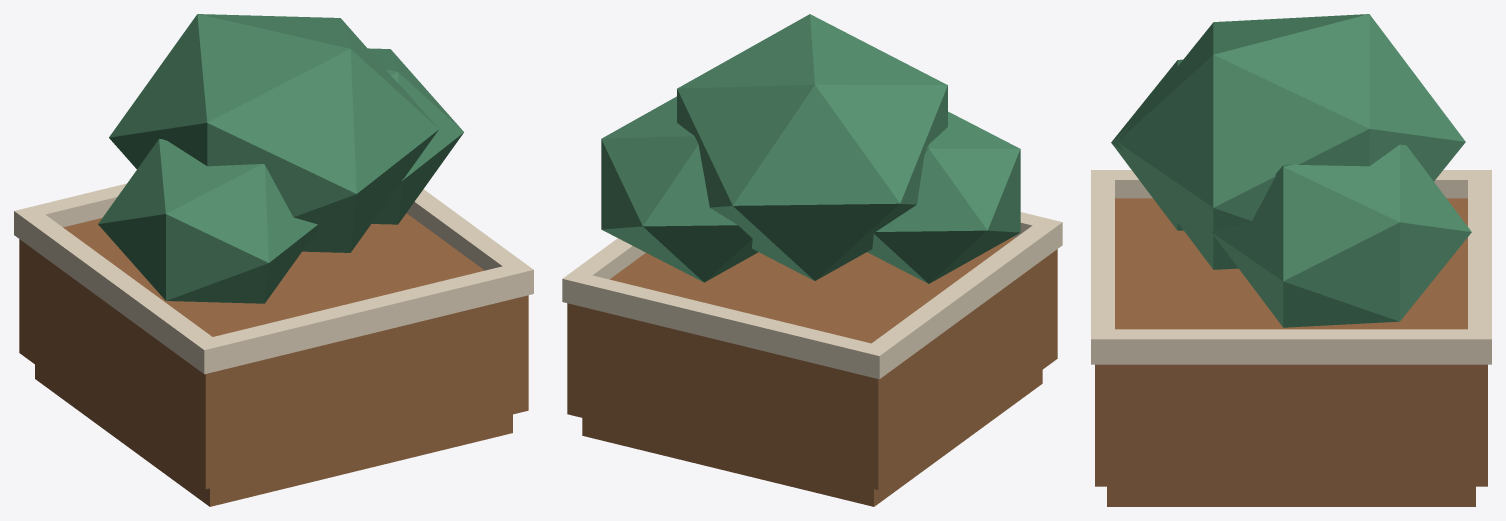
The model's file is LM_PROP_PlanterMamak.glb.
3 renders of one model, left to right at view 1: azimuth 30°, elevation 25°; view 2: azimuth 150°, elevation 25°; view 3: azimuth 270°, elevation 25°, orthographic. The views are drawn at different scales.
Visible parts, largest first — view 1: LM_PROP_PlanterMamak; view 2: LM_PROP_PlanterMamak; view 3: LM_PROP_PlanterMamak.
Boxes of the visible parts, box(x1,y1,x2,y2) form: LM_PROP_PlanterMamak: box(14, 14, 533, 506); LM_PROP_PlanterMamak: box(562, 14, 1062, 506); LM_PROP_PlanterMamak: box(1091, 14, 1491, 506).
Size of the model in its own units: 2.22 by 2.17 by 2.
